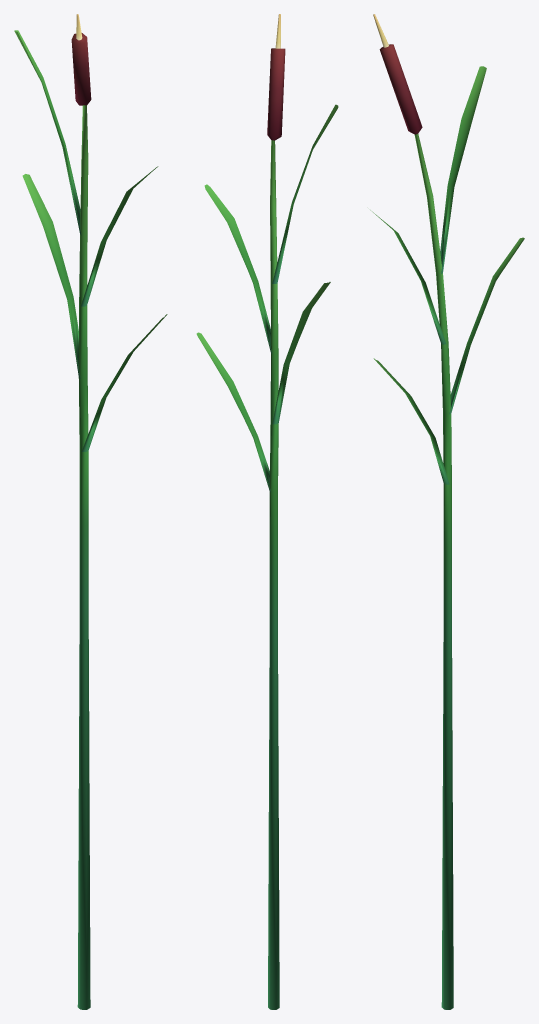
The model's file is cattail-1.fbx.
3 renders of one model, left to right at view 1: azimuth 30°, elevation 25°; view 2: azimuth 210°, elevation 25°; view 3: azimuth 270°, elevation 25°, orthographic. The views are drawn at different scales.
Visible parts, largest first — view 1: cattail-1; view 2: cattail-1; view 3: cattail-1.
Boxes of the visible parts, x1=… form: cattail-1: x1=14, y1=14, x2=167, y2=1009; cattail-1: x1=196, y1=14, x2=338, y2=1009; cattail-1: x1=370, y1=14, x2=524, y2=1009.
Size of the model in its own units: 11.99 by 123 by 18.05.
